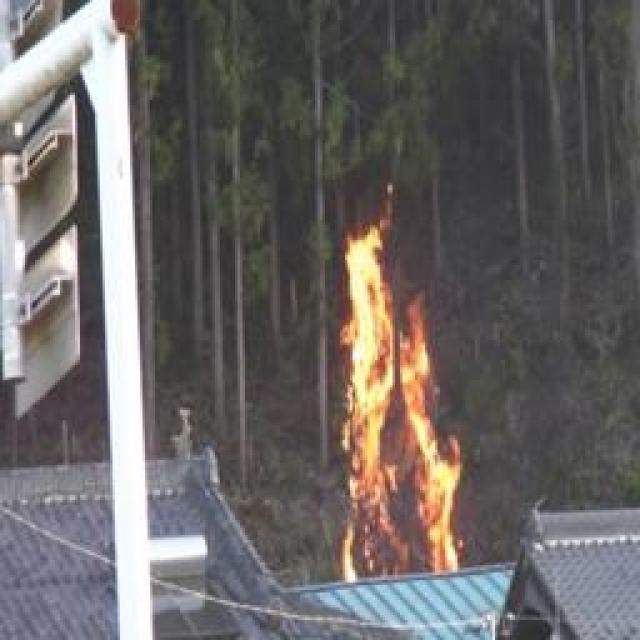Fire: (335, 212, 457, 586)
